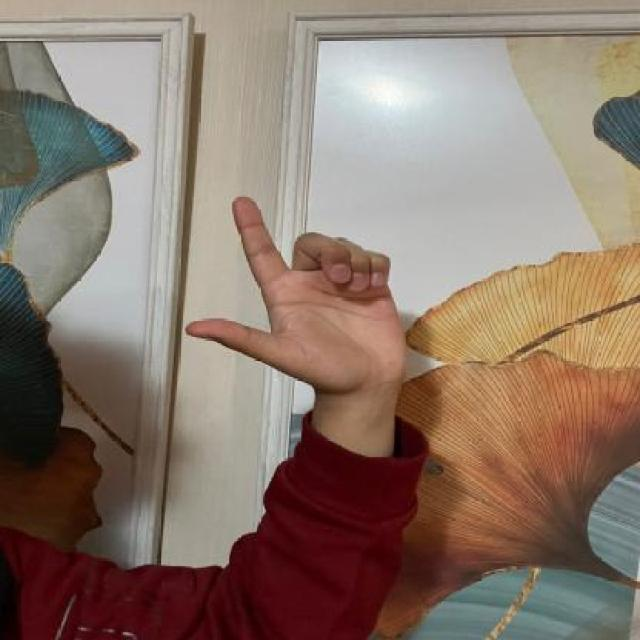L: (180, 194, 425, 397)
